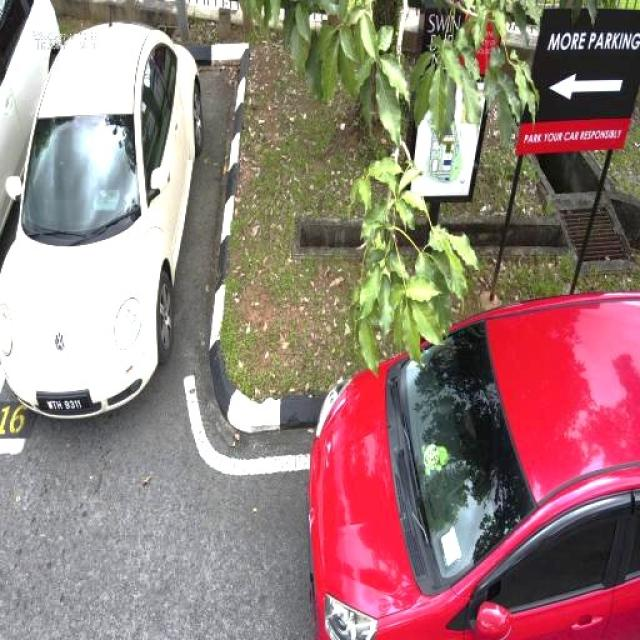Legalparking: (308, 292, 639, 639), (0, 24, 202, 416), (0, 0, 59, 231)
